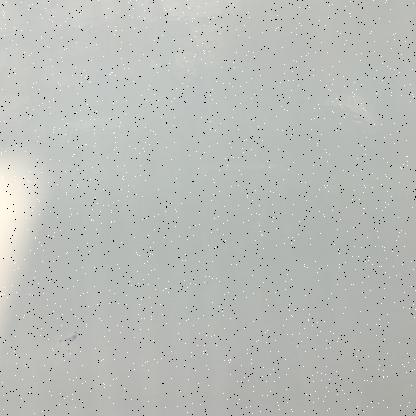Nocrack: (0, 0, 400, 398)
